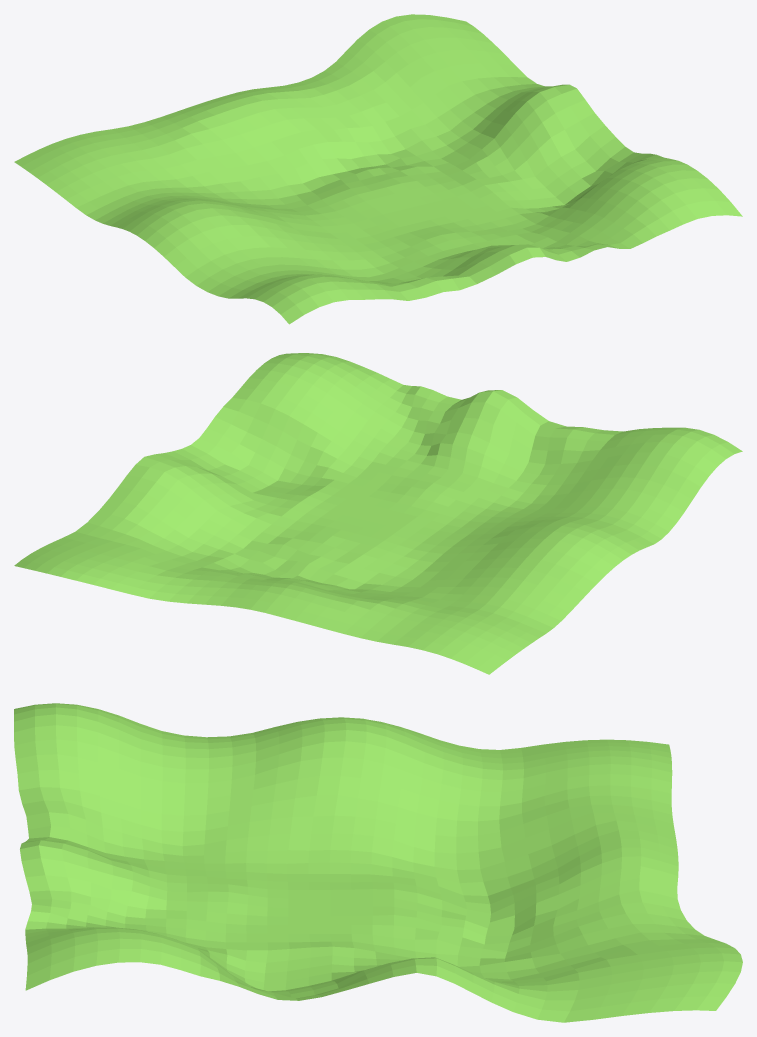
File: GrassLand.glb
3 renders of one model, top to bottom at view 1: azimuth 30°, elevation 25°; view 2: azimuth 150°, elevation 25°; view 3: azimuth 270°, elevation 25°, orthographic. The views are drawn at different scales.
Parts seen in each view (by area): view 1: GrassLand; view 2: GrassLand; view 3: GrassLand.
Part boxes in pixels (box(x1,y1,x2,y2)): GrassLand: box(14, 14, 742, 324); GrassLand: box(14, 353, 742, 674); GrassLand: box(14, 703, 742, 1022).
Bounding box in the file's own units: 174 × 24.37 × 190.
